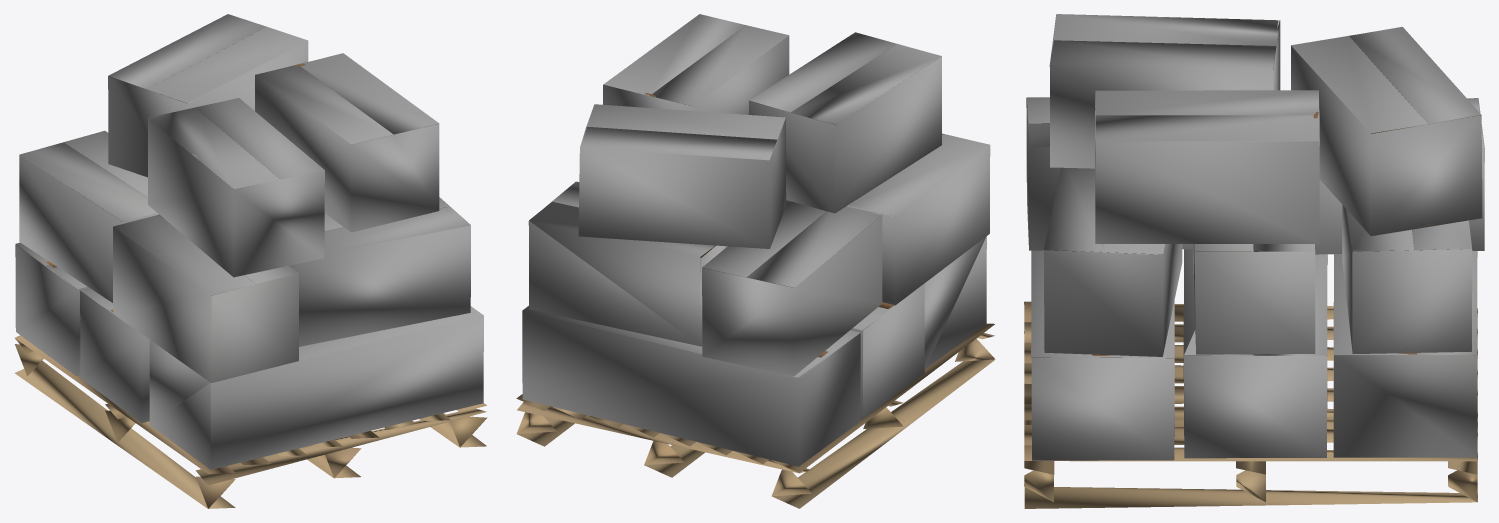
The model's file is pallet-loaded.glb.
3 views of the same model, side by side, from view 1: azimuth 30°, elevation 25°; view 2: azimuth 150°, elevation 25°; view 3: azimuth 270°, elevation 25° (orthographic). The views are drawn at different scales.
Visible parts, largest first — view 1: geometry_0; view 2: geometry_0; view 3: geometry_0.
Part boxes in pixels (x1,y1,x2,y2): geometry_0: (14,14,487,508); geometry_0: (516,14,995,508); geometry_0: (1024,14,1484,508).
Size of the model in its own units: 0.7384 by 0.7714 by 0.8997.
